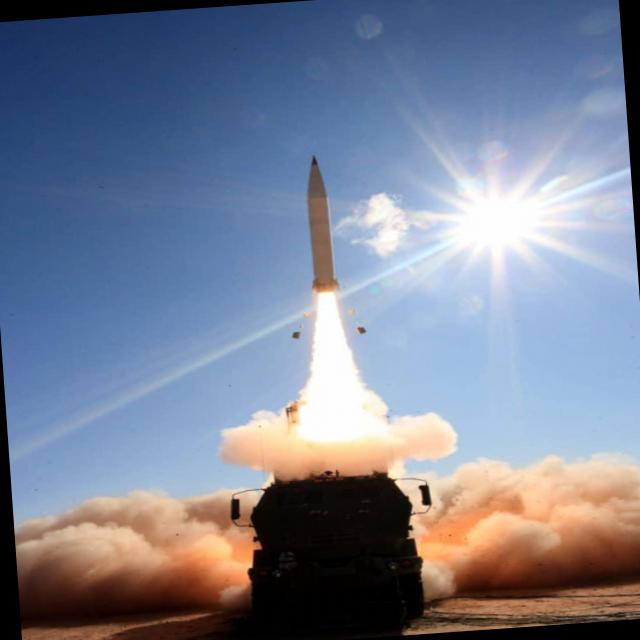rocket: (293, 148, 359, 362)
